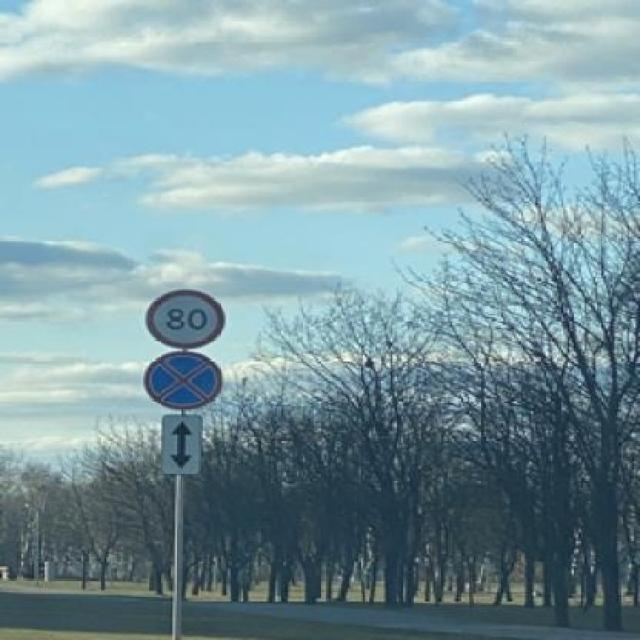forb_speed_over_80: (148, 289, 228, 351)
